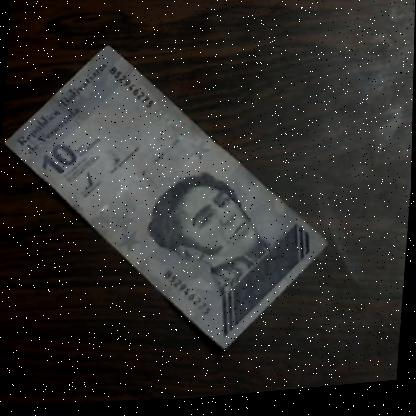ten-front-vef: (0, 23, 346, 376)
